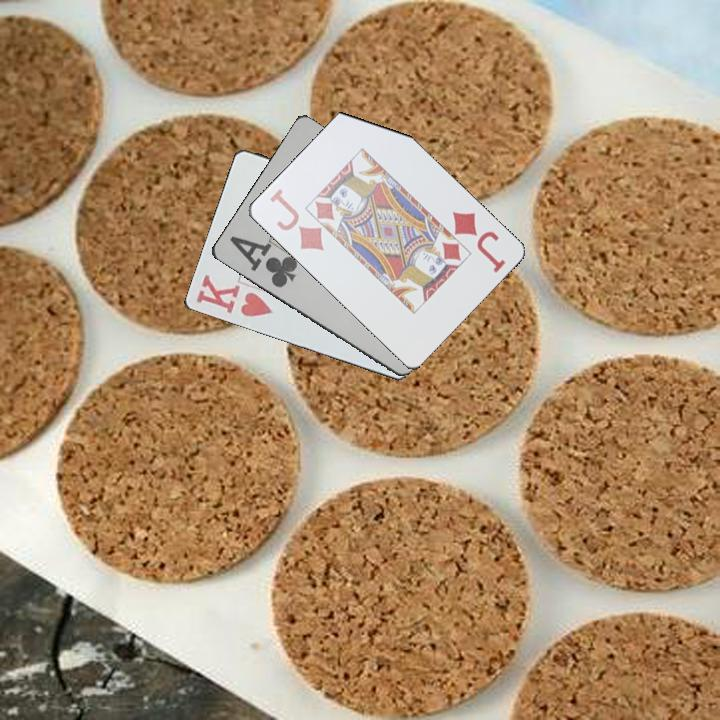Ac: (226, 232, 300, 291)
Jd: (265, 186, 327, 254), (448, 208, 508, 276)
Kh: (192, 271, 276, 320)
